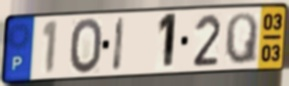1: (156, 11, 178, 72), (40, 19, 60, 78)
2: (191, 12, 222, 68)
I: (111, 16, 127, 74)
O: (69, 16, 105, 76)
Q: (224, 11, 259, 66)
